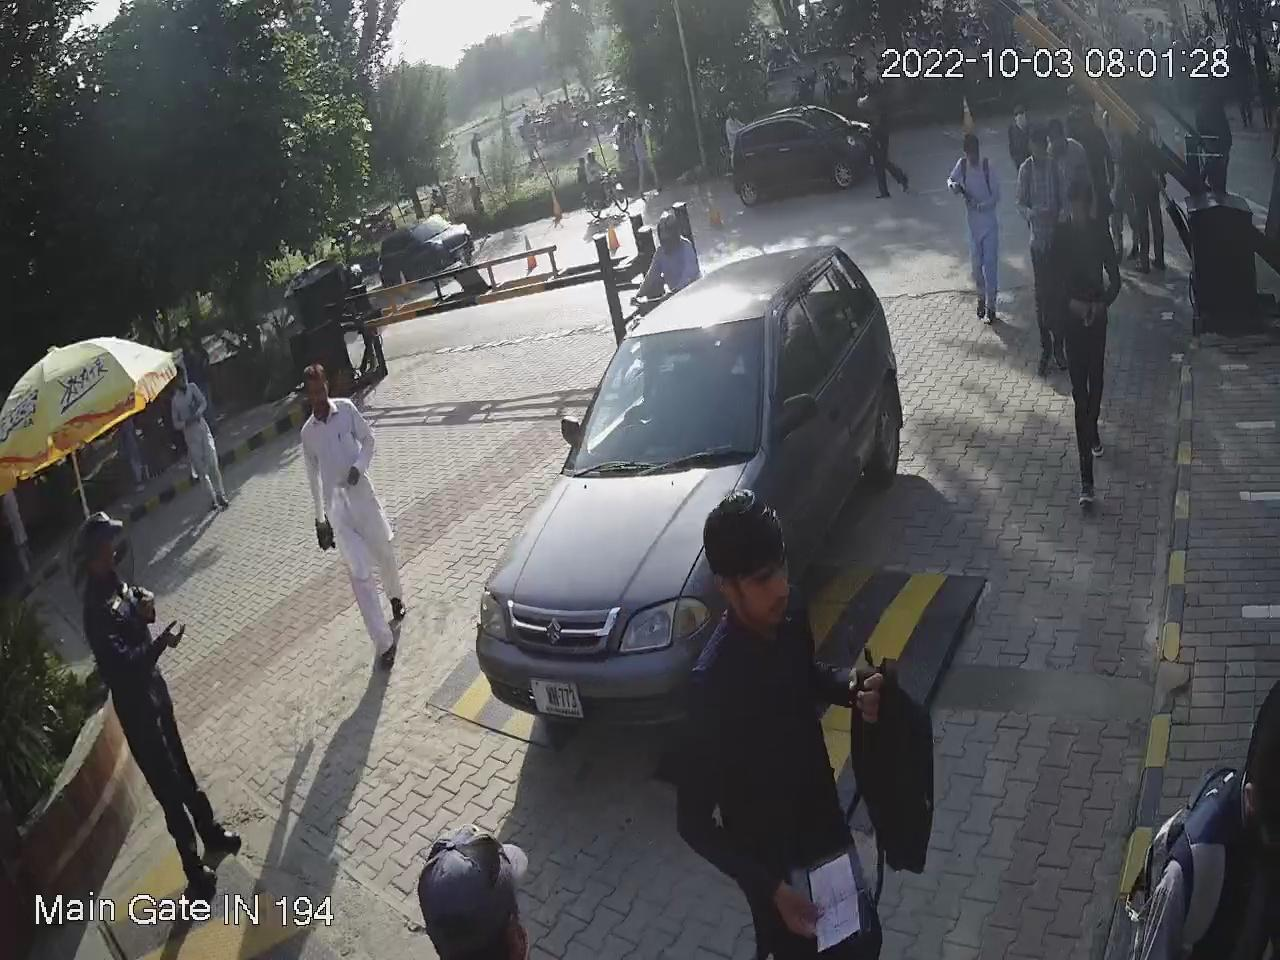windshield: (565, 303, 770, 475)
